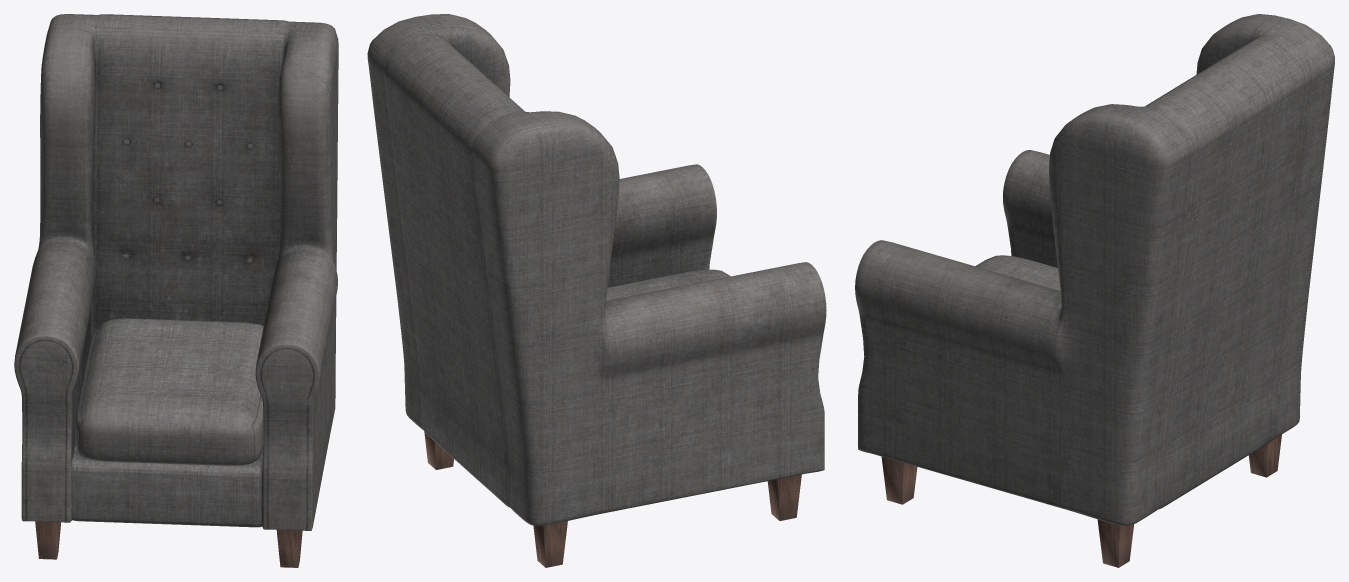
The model's file is armchair18.glb.
3 renders of one model, left to right at view 1: azimuth 30°, elevation 25°; view 2: azimuth 150°, elevation 25°; view 3: azimuth 270°, elevation 25°, orthographic. The views are drawn at different scales.
Parts seen in each view (by area): view 1: armchair_low.002, armchair_low.003, Cube_low.001; view 2: armchair_low.002, Cube_low.001, armchair_low.003; view 3: armchair_low.002, Cube_low.001, armchair_low.003.
Boxes of the visible parts, x1=… form: armchair_low.002: x1=14, y1=14, x2=338, y2=530; armchair_low.003: x1=75, y1=318, x2=263, y2=465; Cube_low.001: x1=35, y1=521, x2=302, y2=567; armchair_low.002: x1=367, y1=14, x2=826, y2=525; Cube_low.001: x1=424, y1=432, x2=801, y2=567; armchair_low.003: x1=606, y1=269, x2=730, y2=300; armchair_low.002: x1=855, y1=14, x2=1334, y2=525; Cube_low.001: x1=881, y1=434, x2=1281, y2=567; armchair_low.003: x1=975, y1=255, x2=1060, y2=290.
Size of the model in its own units: 1.26 by 1.35 by 1.3.
1 material, 1 textured.
